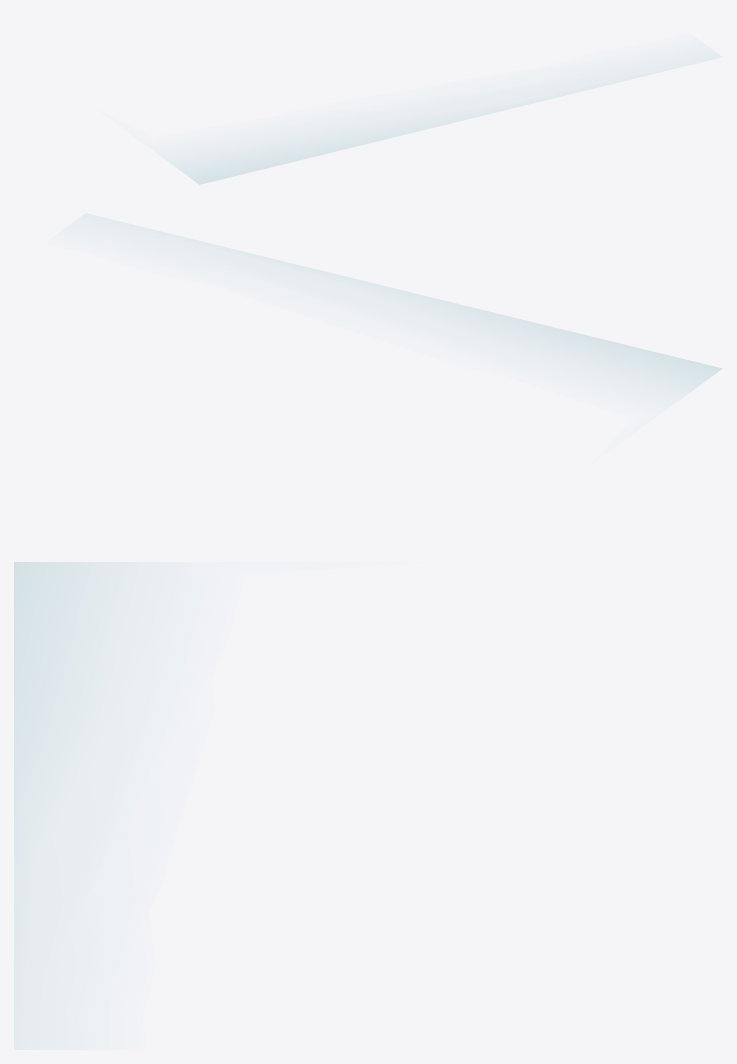
3 views of the same model, one above another, from view 1: azimuth 30°, elevation 25°; view 2: azimuth 150°, elevation 25°; view 3: azimuth 270°, elevation 25° (orthographic). The views are drawn at different scales.
Visible parts, largest first — view 1: city; view 2: city; view 3: city.
Part boxes in pixels (box(x1,y1,x2,y2)): city: box(175, 72, 658, 184); city: box(155, 230, 722, 390); city: box(14, 562, 109, 1007).
Size of the model in its own units: 500 by 0 by 307.
